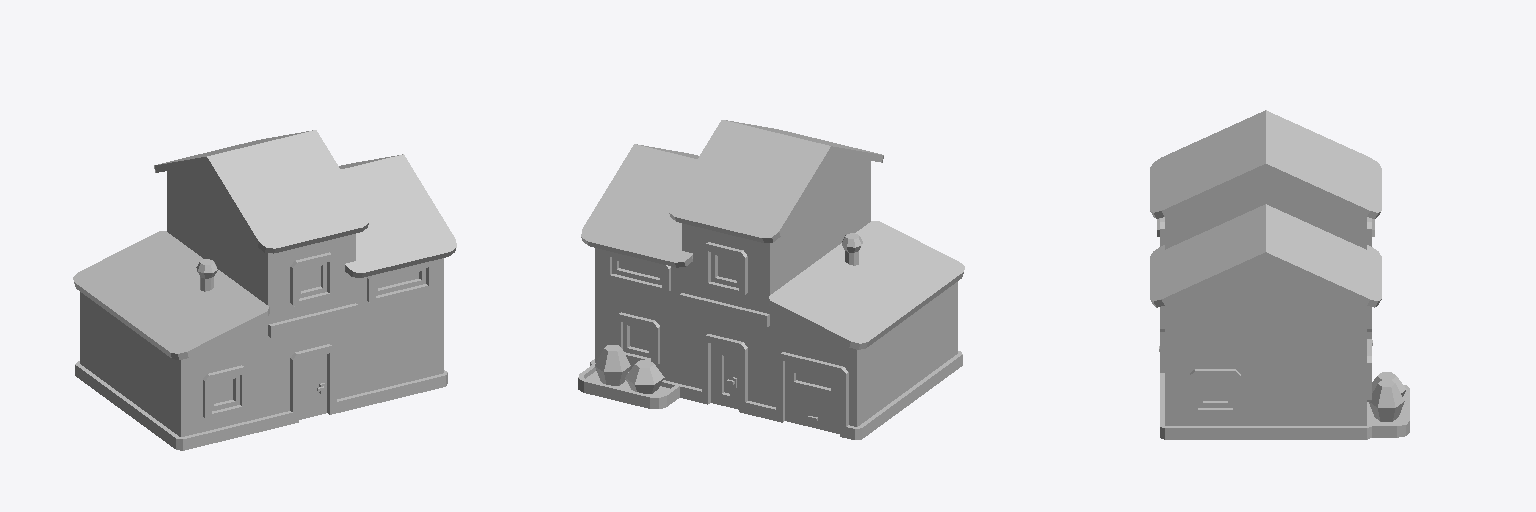
The model's file is suburban_building-type-c.obj.
The picture shows the model from 3 angles: view 1: azimuth 30°, elevation 25°; view 2: azimuth 150°, elevation 25°; view 3: azimuth 270°, elevation 25°; orthographic projection.
Visible parts, largest first — view 1: building-type-c; view 2: building-type-c; view 3: building-type-c.
Boxes of the visible parts, x1=… form: building-type-c: x1=73, y1=130, x2=456, y2=450; building-type-c: x1=578, y1=120, x2=964, y2=439; building-type-c: x1=1150, y1=110, x2=1409, y2=439.
Bounding box in the file's own units: 1.29 × 1.03 × 1.03.